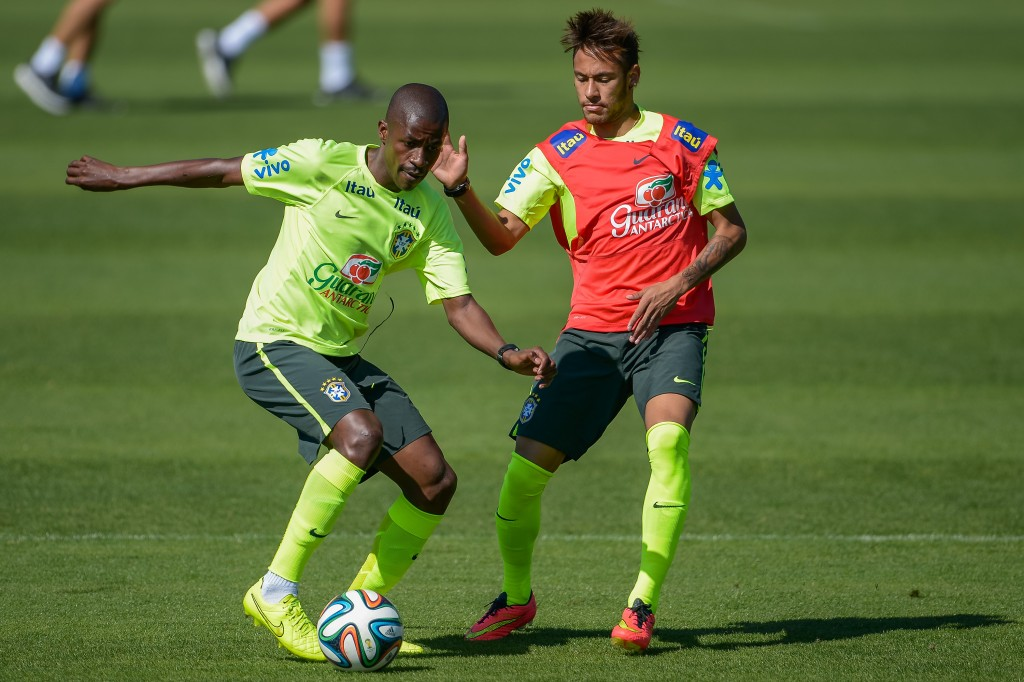football: (312, 586, 409, 670)
